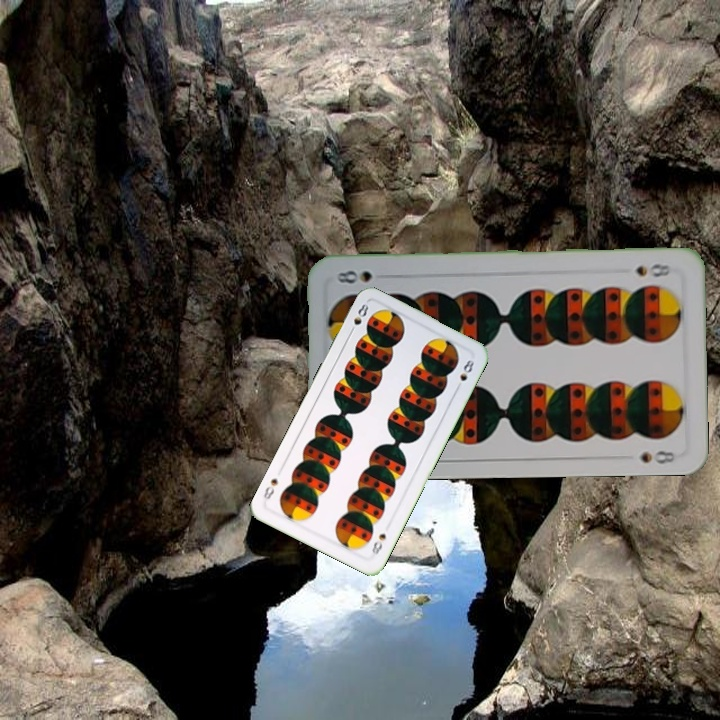S8: (345, 300, 371, 337), (632, 260, 679, 280), (368, 529, 389, 558)
